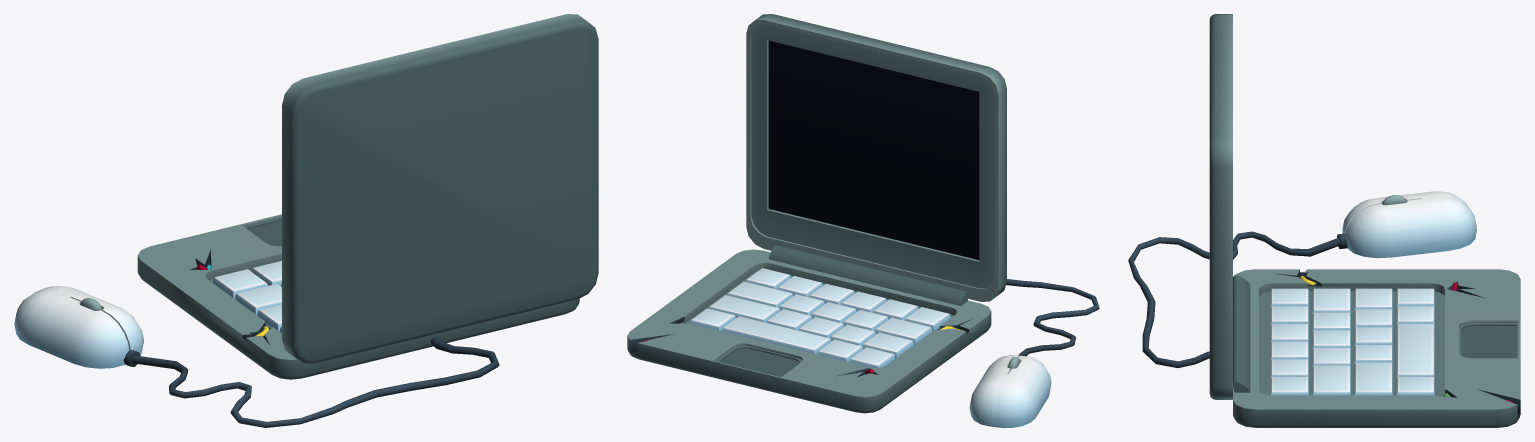
Rendered from Notebook_Broken.fbx.
3 views of the same model, side by side, from view 1: azimuth 30°, elevation 25°; view 2: azimuth 150°, elevation 25°; view 3: azimuth 270°, elevation 25° (orthographic). The views are drawn at different scales.
Visible parts, largest first — view 1: laptop_lid, laptop, mouse, keyboard; view 2: laptop_lid, laptop, keyboard, mouse; view 3: laptop, keyboard, mouse, laptop_lid.
Part boxes in pixels (<box>): laptop_lid: <box>282,14,598,363</box>; laptop: <box>137,214,579,379</box>; mouse: <box>14,286,499,427</box>; keyboard: <box>213,261,281,333</box>; laptop_lid: <box>746,14,1006,301</box>; laptop: <box>627,245,991,413</box>; keyboard: <box>690,268,950,367</box>; mouse: <box>969,279,1099,427</box>; laptop: <box>1233,269,1520,427</box>; keyboard: <box>1271,288,1434,395</box>; mouse: <box>1128,191,1476,367</box>; laptop_lid: <box>1209,14,1232,399</box>.
Bounding box in the file's own units: 2.99 × 1.93 × 2.36.
